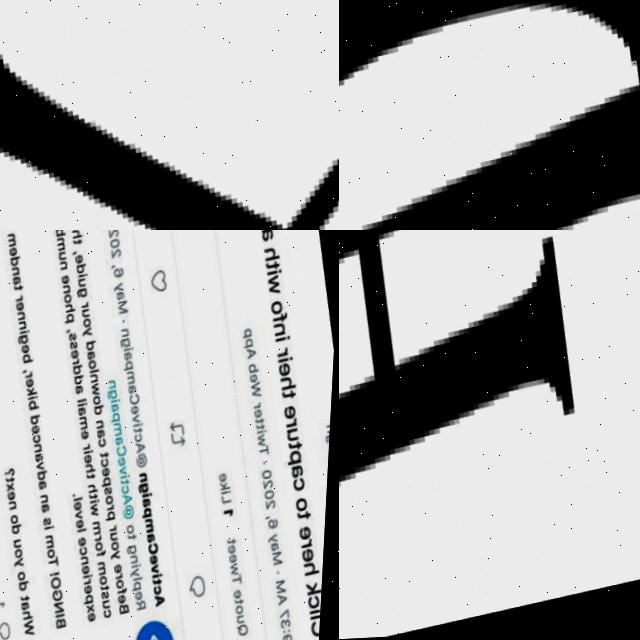0: (264, 474, 276, 487), (109, 242, 122, 254), (267, 495, 279, 507), (106, 230, 119, 234)
1: (227, 514, 238, 524), (1, 605, 10, 612)
2: (265, 484, 278, 497), (111, 252, 123, 263), (268, 505, 280, 515), (109, 232, 120, 242)
3: (284, 625, 296, 636)
6: (270, 523, 283, 536), (114, 271, 126, 282)
7: (283, 616, 295, 627)
D: (339, 0, 640, 230)
H: (339, 230, 577, 487)
K: (0, 0, 339, 230)
